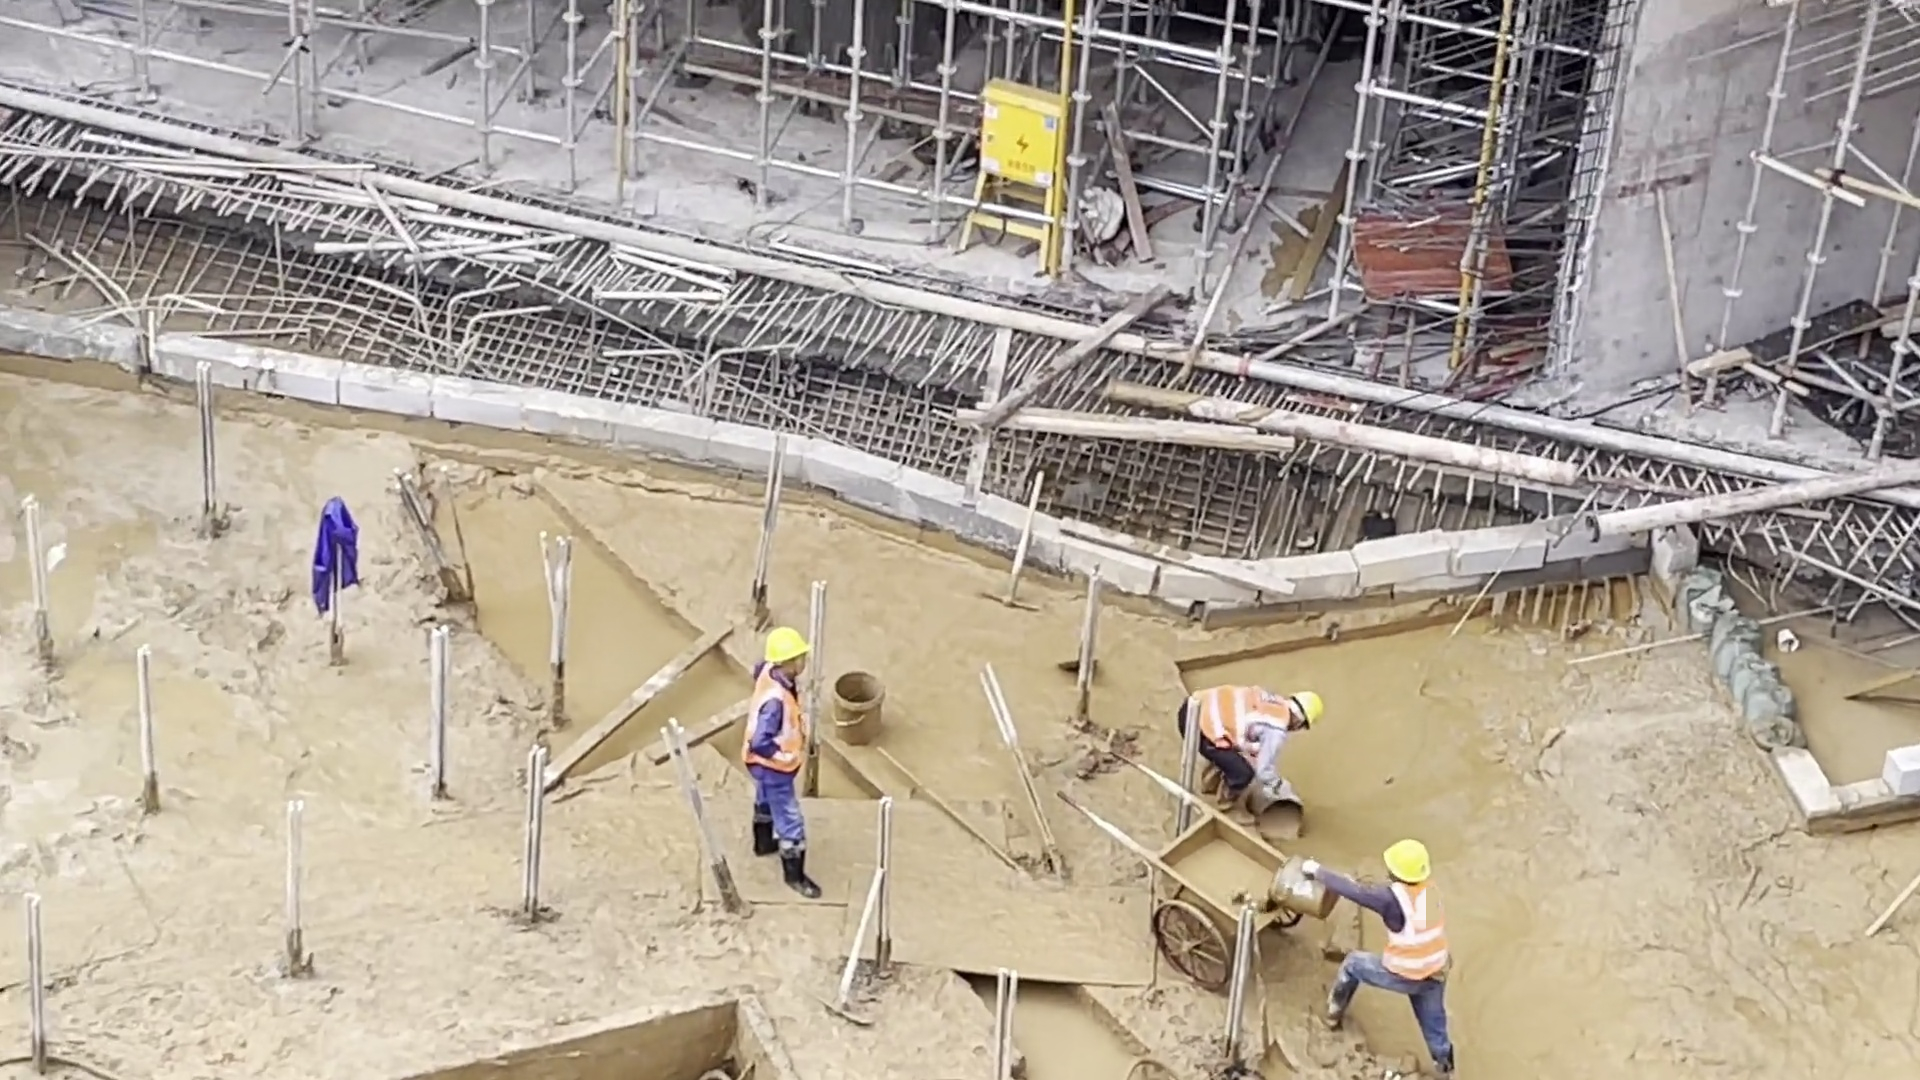ebox: (962, 75, 1070, 283)
handcart: (1058, 741, 1300, 990)
helmet: (1382, 837, 1434, 884), (764, 627, 812, 665), (1295, 688, 1325, 731)
person: (1309, 834, 1460, 1076), (740, 617, 822, 896), (1175, 674, 1320, 810)
vest: (736, 674, 809, 773), (1189, 688, 1293, 745), (1388, 883, 1448, 983)
